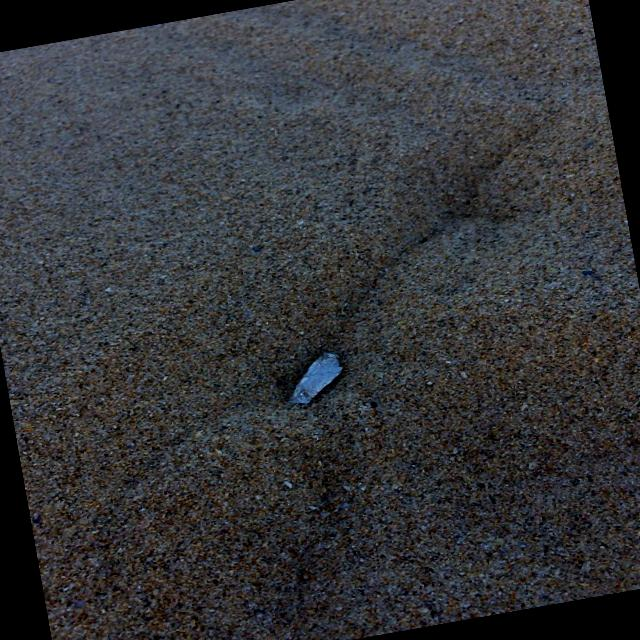Trash: (270, 342, 373, 416)
